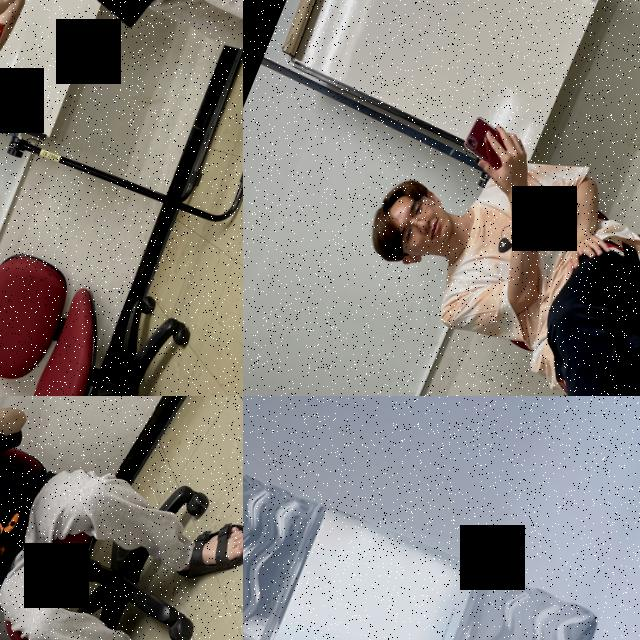bottle: (243, 405, 609, 640)
